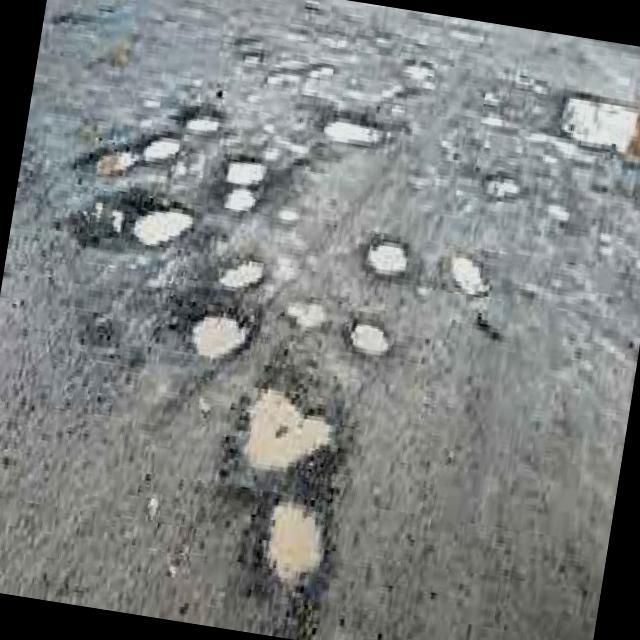Lubang: (246, 393, 331, 470), (562, 95, 640, 154), (269, 506, 321, 581), (192, 315, 246, 359), (74, 144, 139, 176), (134, 211, 193, 246), (365, 233, 409, 278), (451, 254, 493, 295), (180, 101, 224, 134), (325, 120, 382, 145), (227, 152, 268, 185), (219, 260, 263, 289), (145, 131, 184, 162), (351, 324, 388, 355), (284, 302, 325, 329), (485, 173, 520, 199), (222, 188, 255, 211)
